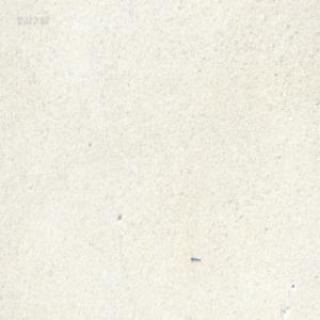Nailtrack_idkeyframe: (189, 253, 200, 261)
